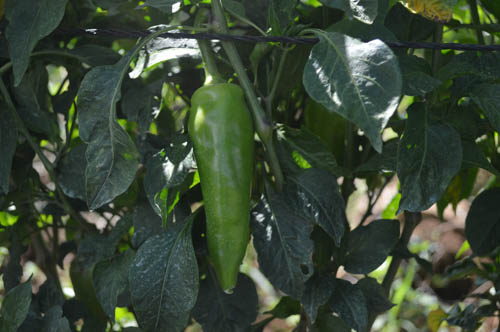ChiliPepper: (186, 86, 254, 295)
